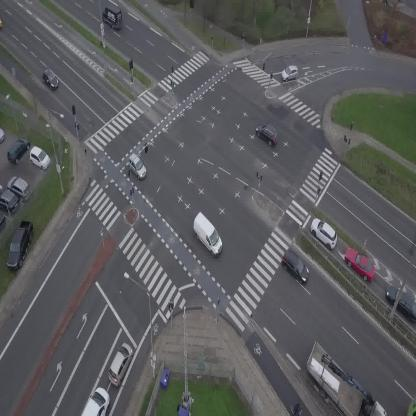bicycle: (290, 402, 302, 416)
car: (340, 242, 382, 285), (103, 340, 137, 388), (277, 248, 315, 286), (305, 214, 343, 252), (251, 119, 283, 149), (123, 152, 151, 181), (81, 387, 109, 416), (39, 68, 62, 91), (279, 64, 300, 82)
lorry: (291, 341, 390, 416), (185, 211, 229, 258), (97, 1, 130, 32)
